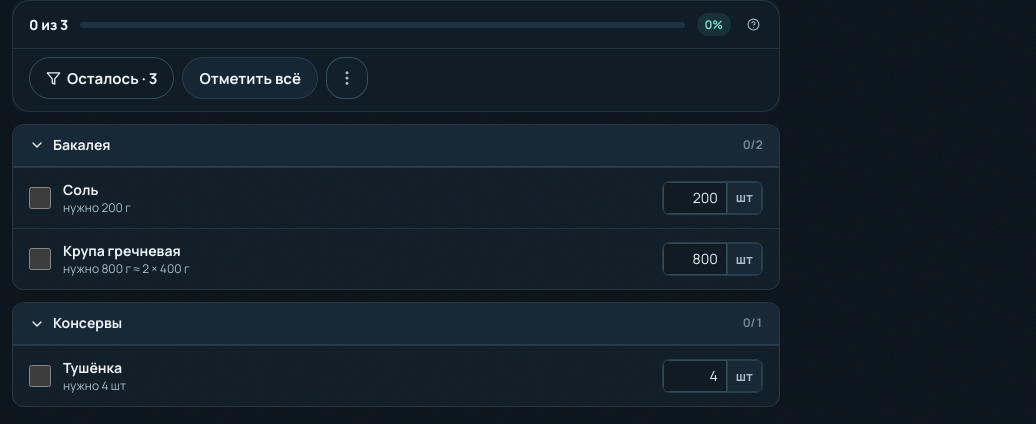
Test: ChecklistTab — прогресс и отметки (подзадача 6) › подсказка к прогрессу — поповер InfoTip (не нативный title)
Click the button with test id "info-tip" at (753, 24), box left=743, top=14, right=763, bottom=34
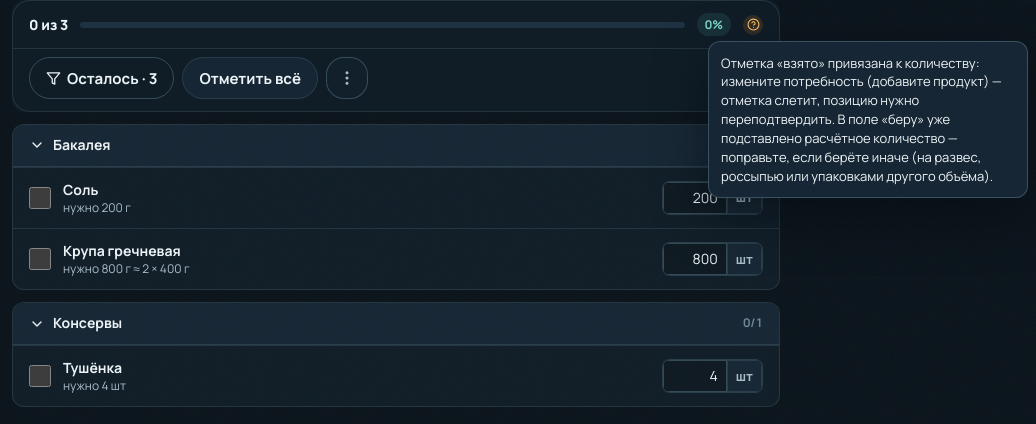
expect the tooltip shows "привязана к количеству": met, box left=721, top=54, right=1002, bottom=185
